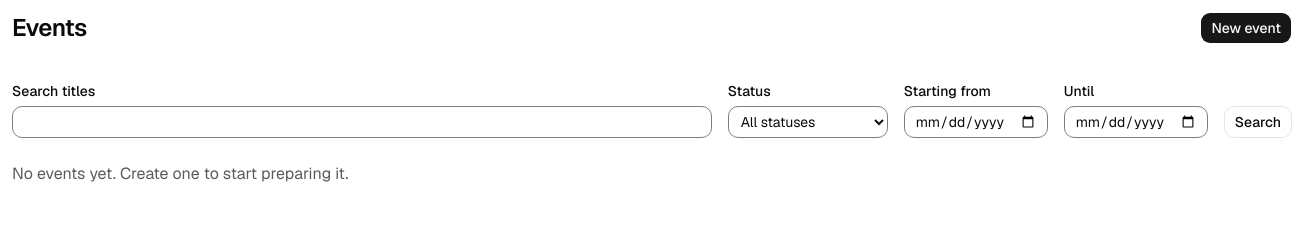
Test case: EventsPage › refuses a range that ends before it starts
expect the text "No events yet. Create one to start preparing it." is shown: met, box [12,163,348,184]
Type "2026-12-07" into the date field labelled "Starting from". click: (976, 122)
box: [904,106,1048,138]
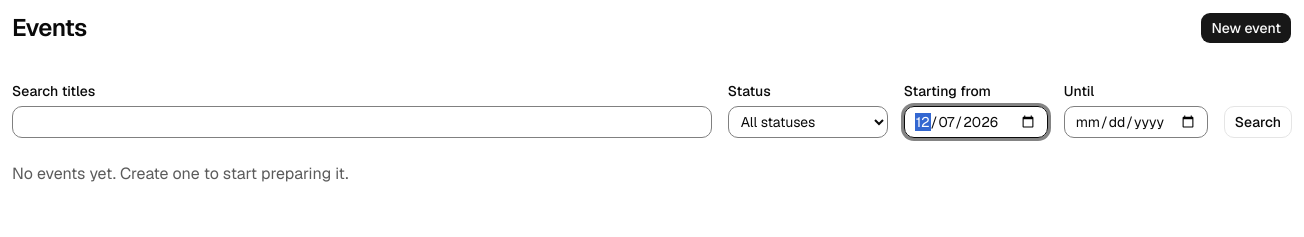
Type "2026-12-01" into the date field labelled "Until". click: (1136, 122)
box: [1064,106,1208,138]
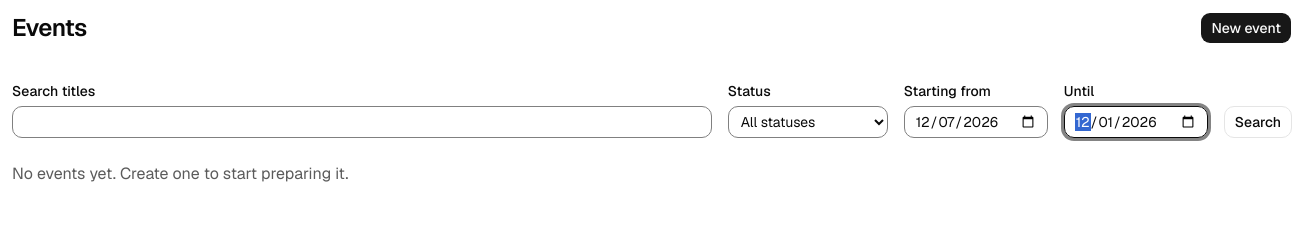
Click the button "Search". click: (1258, 122)
box: [1224,106,1292,138]
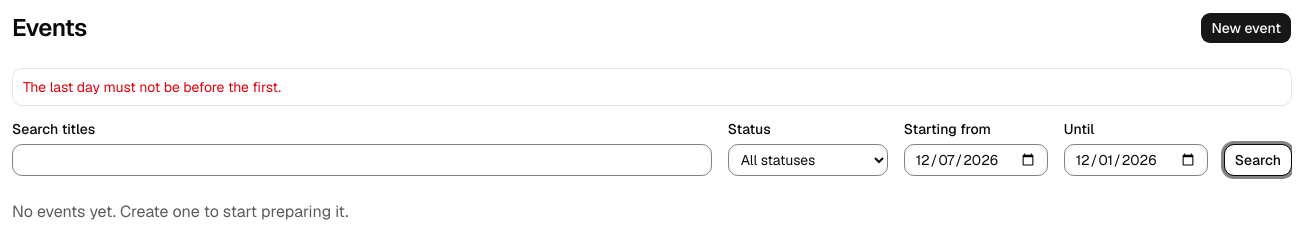
expect the message reads "The last day must not be before the first.": met, box [23,78,281,96]
